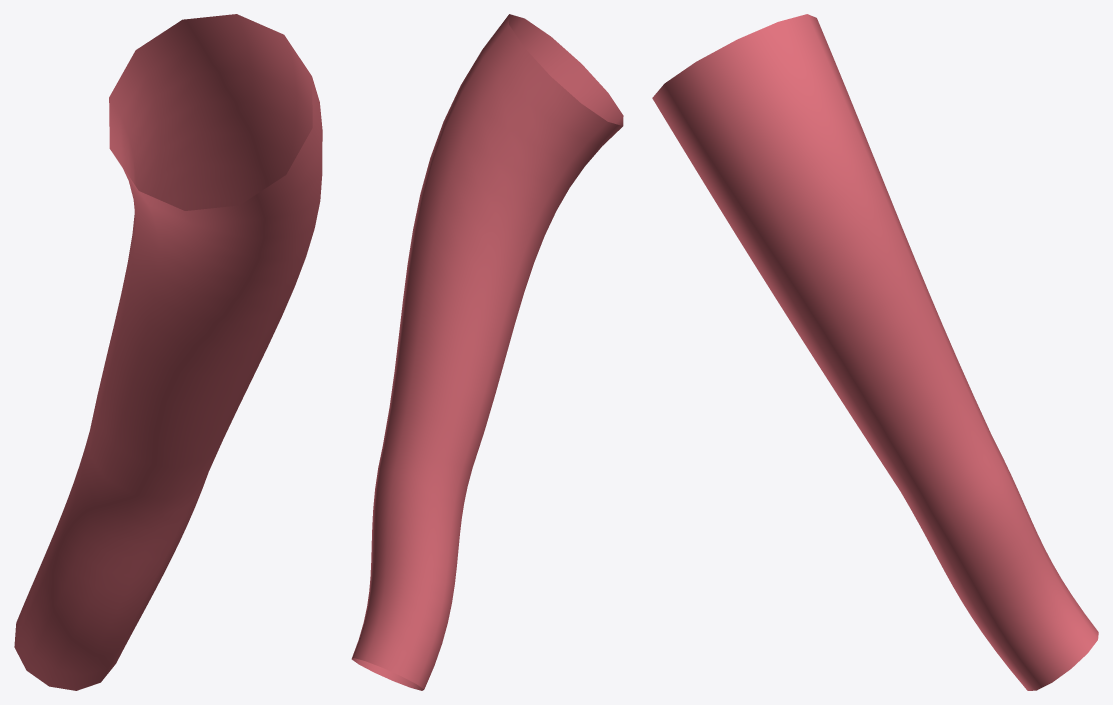
3 views of the same model, side by side, from view 1: azimuth 30°, elevation 25°; view 2: azimuth 150°, elevation 25°; view 3: azimuth 270°, elevation 25° (orthographic). The views are drawn at different scales.
Visible parts, largest first — view 1: ZA_d2fc9ae5c1e31a81; view 2: ZA_d2fc9ae5c1e31a81; view 3: ZA_d2fc9ae5c1e31a81.
Part boxes in pixels (x1=…): ZA_d2fc9ae5c1e31a81: x1=14, y1=14, x2=322, y2=690; ZA_d2fc9ae5c1e31a81: x1=351, y1=14, x2=623, y2=690; ZA_d2fc9ae5c1e31a81: x1=652, y1=14, x2=1098, y2=690.
Size of the model in its own units: 0.0138 by 0.0479 by 0.0291.
